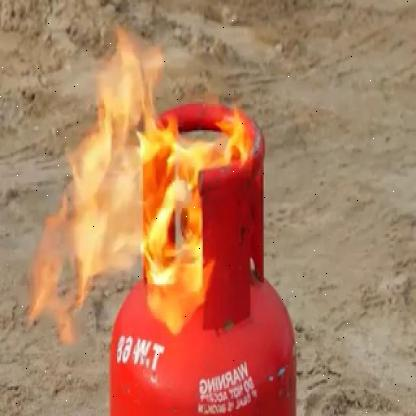fire: (19, 18, 267, 346)
